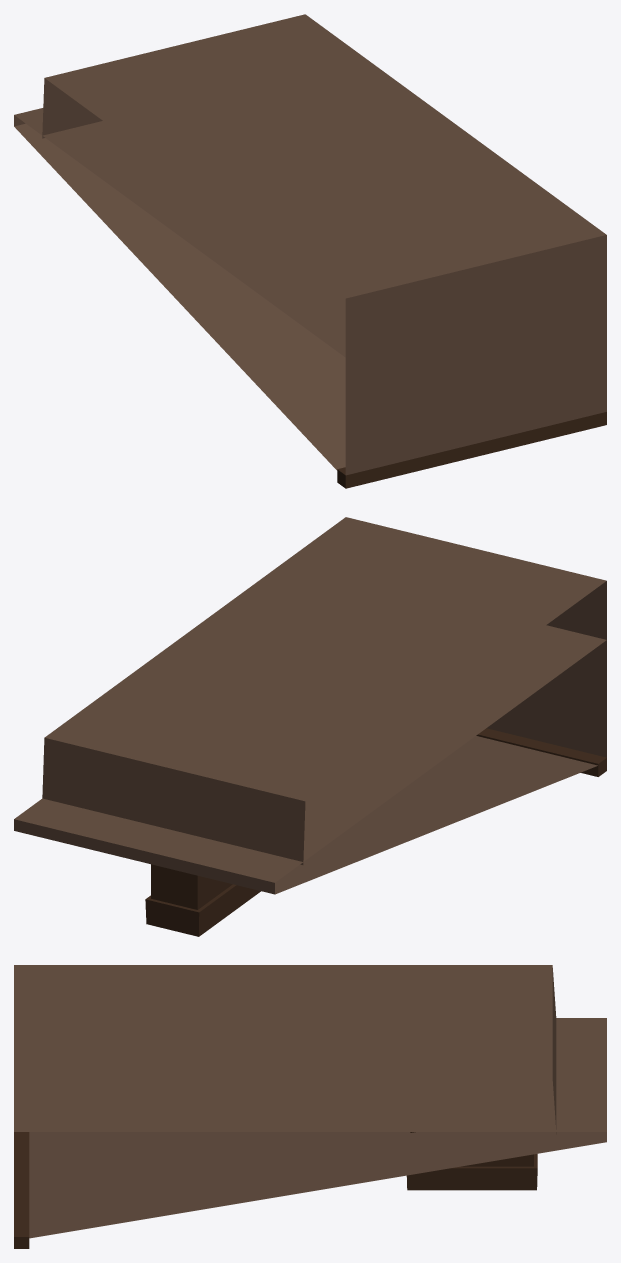
The picture shows the model from 3 angles, top to bottom: view 1: azimuth 30°, elevation 25°; view 2: azimuth 150°, elevation 25°; view 3: azimuth 270°, elevation 25°; orthographic projection. The views are drawn at different scales.
Visible parts, largest first — view 1: Rooftop_Wide_002; view 2: Rooftop_Wide_002; view 3: Rooftop_Wide_002.
Boxes of the visible parts, box(x1,y1,x2,y2) form: Rooftop_Wide_002: box(14, 14, 606, 488); Rooftop_Wide_002: box(14, 517, 606, 936); Rooftop_Wide_002: box(14, 965, 606, 1248).
Size of the model in its own units: 320 by 223 by 705.
